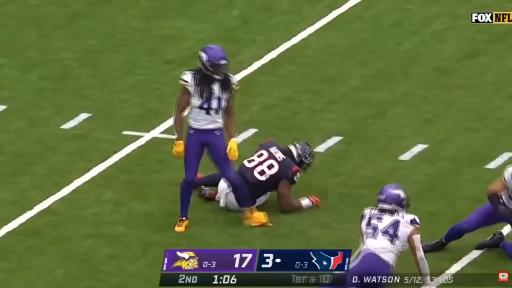Helmet: (199, 45, 229, 79), (377, 184, 409, 211), (288, 142, 314, 171)
Jersey: (239, 141, 300, 200), (361, 207, 419, 266), (179, 71, 230, 129), (499, 165, 511, 208)
Player: (173, 45, 266, 232), (347, 184, 429, 287), (423, 165, 511, 252), (235, 141, 320, 212)
